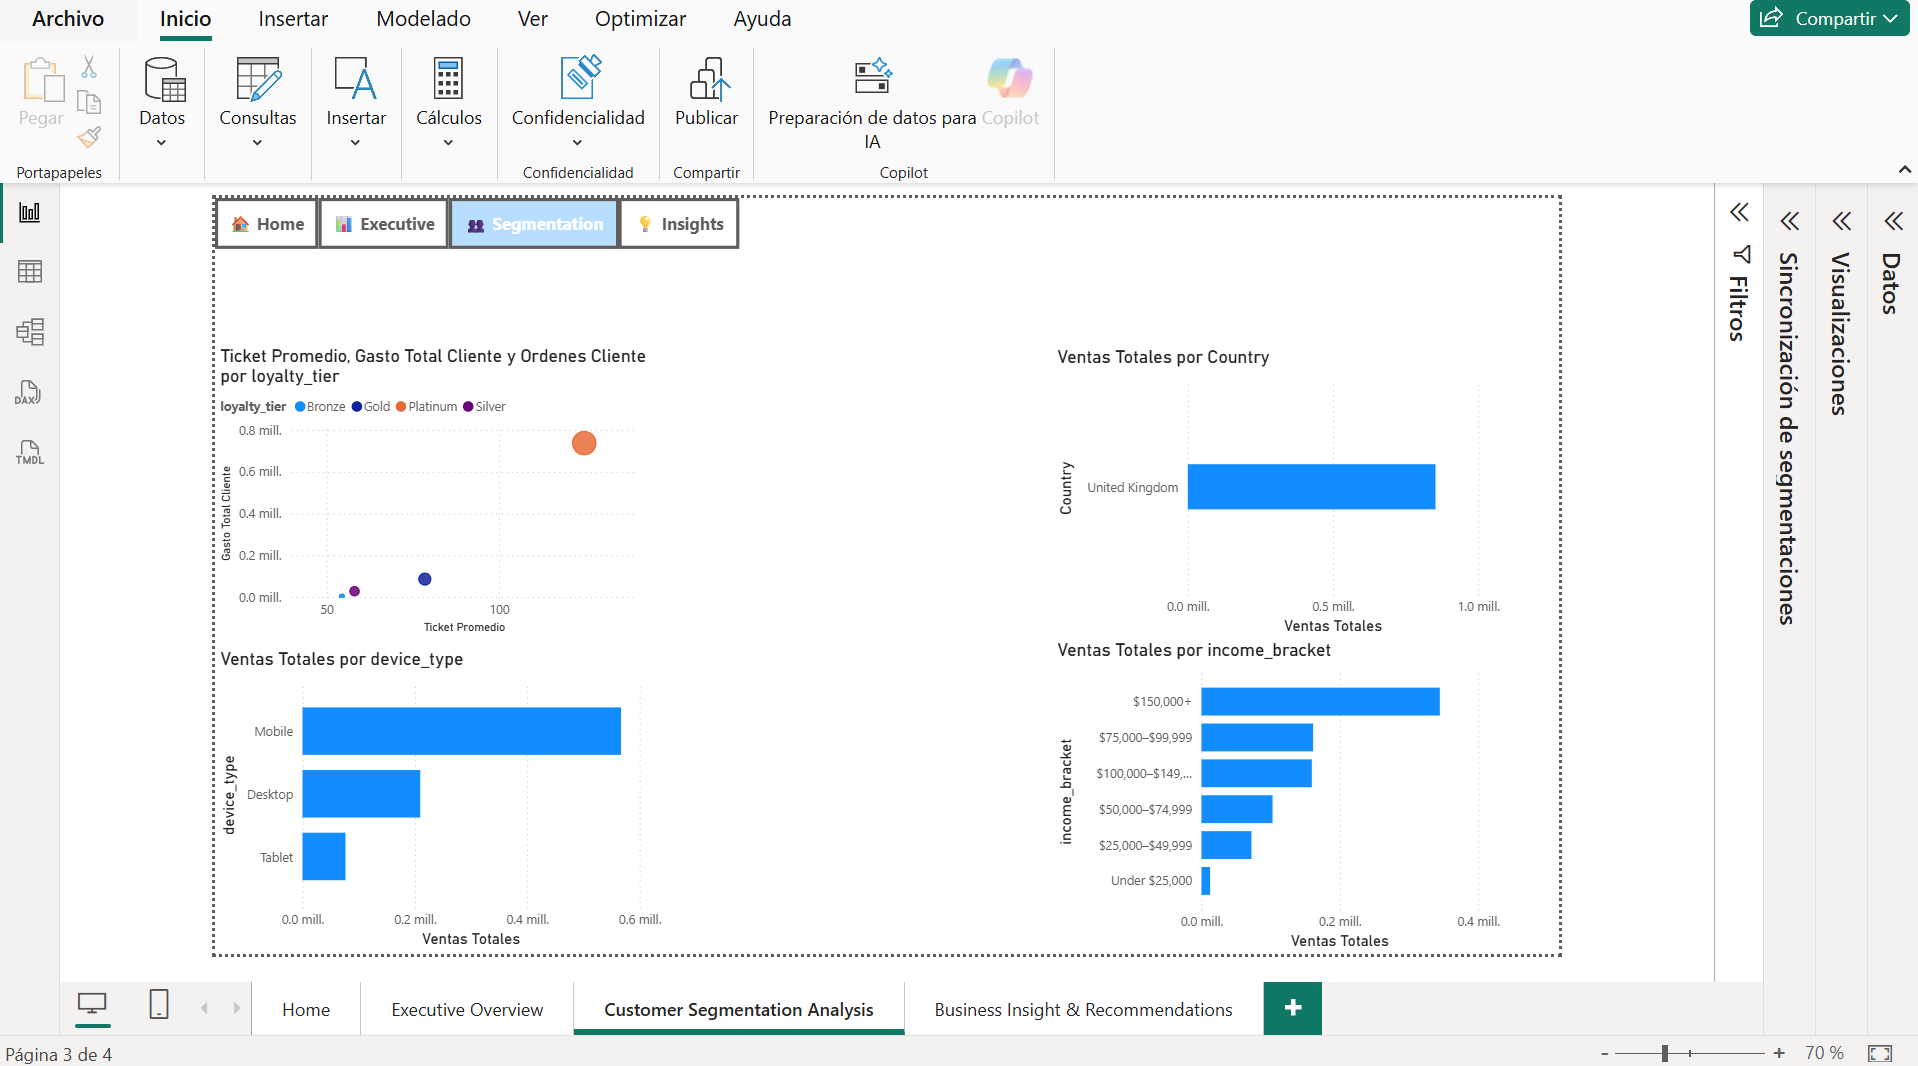

Layout of this report page (visuals, bound fields, positions):
{"tool":"powerbi","page":{"name":"Customer Segmentation Analysis","canvas":[1280,720],"ordinal":2},"visuals":[{"type":"scatterChart","fields":{"Series":["ecommerce_customer_analytics.loyalty_tier"],"X":["ecommerce_customer_analytics.Ticket Promedio"],"Y":["ecommerce_customer_analytics.Gasto Total Cliente"],"Size":["ecommerce_customer_analytics.Ordenes Cliente"]},"box":[0,139.3,416.4,278.6],"z":0},{"type":"barChart","fields":{"Category":["ecommerce_customer_analytics.country"],"Y":["ecommerce_customer_analytics.Ventas Totales"]},"box":[796.5,140.8,431.5,278.6],"z":1000},{"type":"barChart","fields":{"Category":["ecommerce_customer_analytics.device_type"],"Y":["ecommerce_customer_analytics.Ventas Totales"]},"box":[0,428.5,430,289.2],"z":2000},{"type":"barChart","fields":{"Category":["ecommerce_customer_analytics.income_bracket"],"Y":["ecommerce_customer_analytics.Ventas Totales"]},"box":[796.5,419.4,431.5,299.8],"z":3000},{"type":"actionButton","title":"Home","box":[0,0,98.4,48.5],"z":4000},{"type":"actionButton","title":"Home","box":[98.4,0,124.2,48.5],"z":5000},{"type":"actionButton","title":"Home","box":[222.6,0,162,48.5],"z":6000},{"type":"actionButton","title":"Home","box":[384.6,0,115.1,48.5],"z":7000}]}

Visuals, with their boxes on the page's 1280x720 design canvas (x1, y1, x2, y2). These are canvas units, not pixel positions in the 1918x1066 screenshot, which may show the page scaled, cropped or inside an application window:
scatterChart - ecommerce_customer_analytics.loyalty_tier x ecommerce_customer_analytics.Ticket Promedio: <box>0,139,416,418</box>
barChart - ecommerce_customer_analytics.country x ecommerce_customer_analytics.Ventas Totales: <box>796,141,1228,419</box>
barChart - ecommerce_customer_analytics.device_type x ecommerce_customer_analytics.Ventas Totales: <box>0,428,430,718</box>
barChart - ecommerce_customer_analytics.income_bracket x ecommerce_customer_analytics.Ventas Totales: <box>796,419,1228,719</box>
"Home" actionButton: <box>0,0,98,48</box>
"Home" actionButton: <box>98,0,223,48</box>
"Home" actionButton: <box>223,0,385,48</box>
"Home" actionButton: <box>385,0,500,48</box>
